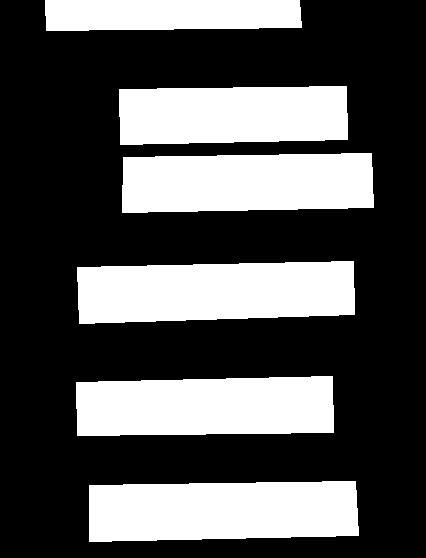parkingspot: (77, 261, 354, 323), (89, 481, 358, 541), (76, 376, 333, 435), (122, 153, 373, 212), (119, 86, 347, 144), (45, 0, 301, 30)
